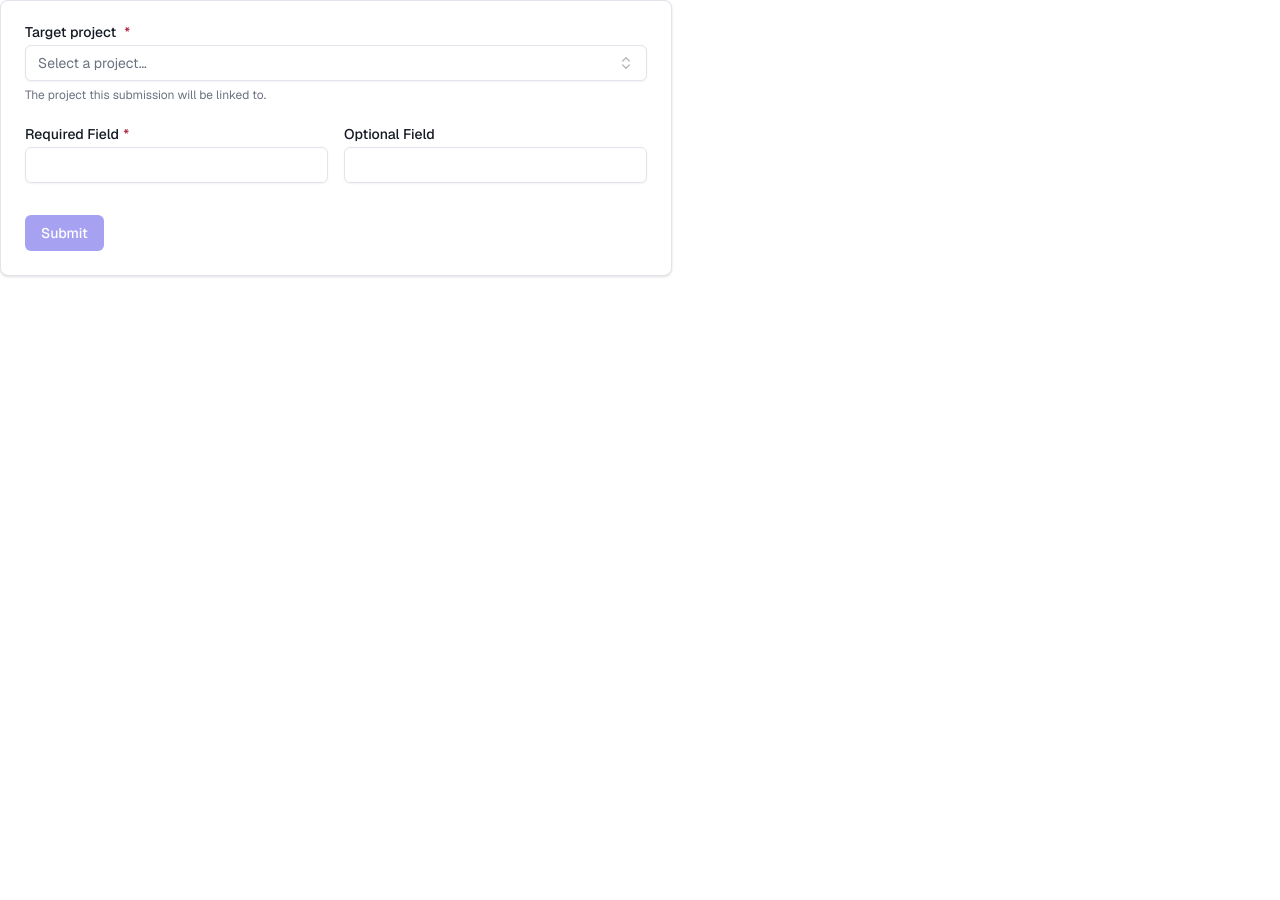
Test: FillForm — COR target project guard › Submit stays disabled for a COR form until a target project is chosen
Type "hello" into the field labelled "Required Field *". click: coordinates (176, 165)
box: top-left (25, 147), bottom-right (328, 183)
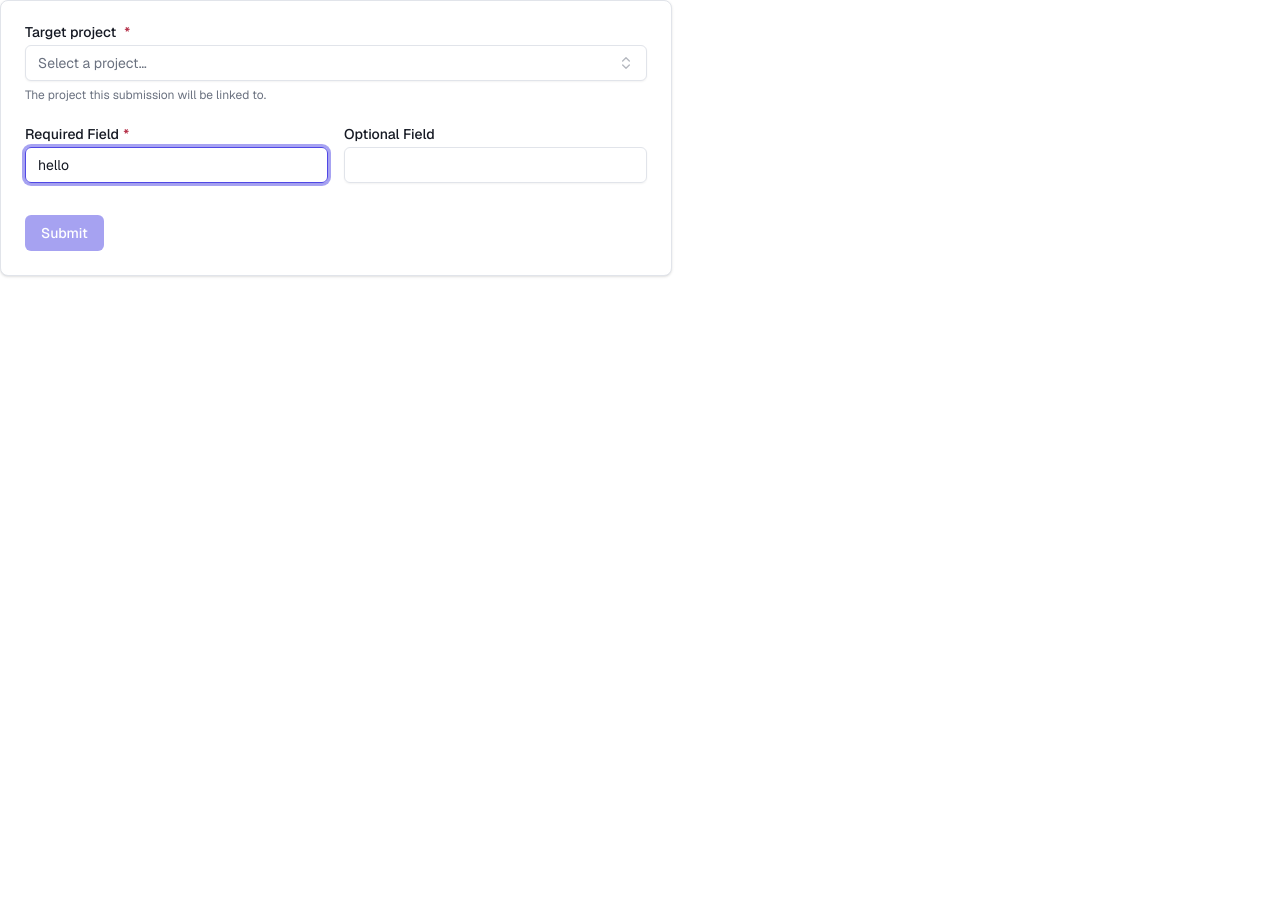
Expected: the button "Submit" is disabled, top-left (25, 215), bottom-right (104, 251)
Open the project combobox and pick a project
Click the dropdown with test id "target-project-trigger". click: coordinates (92, 63)
box: top-left (25, 45), bottom-right (647, 81)
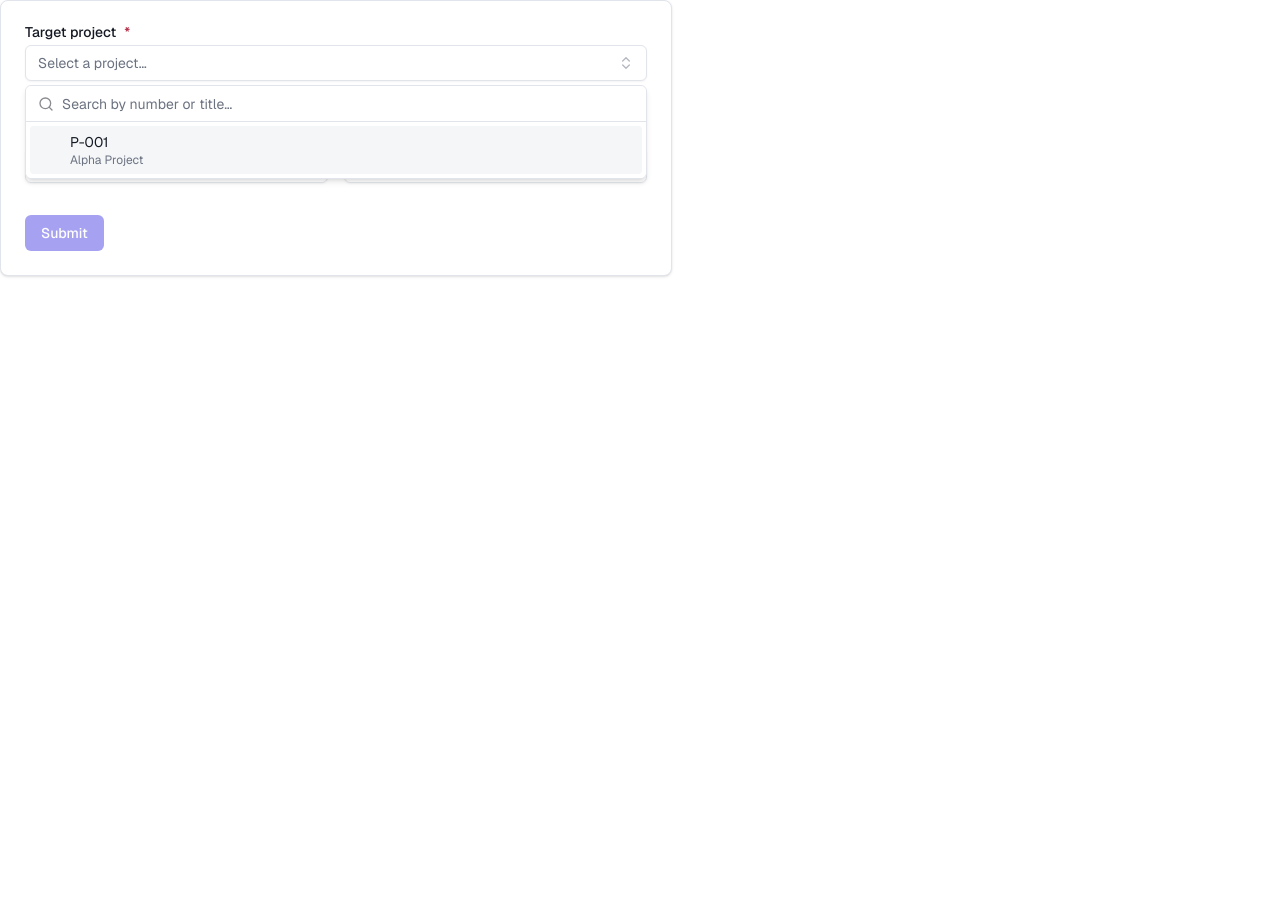
Expected: the text "Alpha Project" is shown
Click the project item
Click the text "Alpha Project". click: coordinates (107, 160)
box: top-left (70, 152), bottom-right (143, 168)
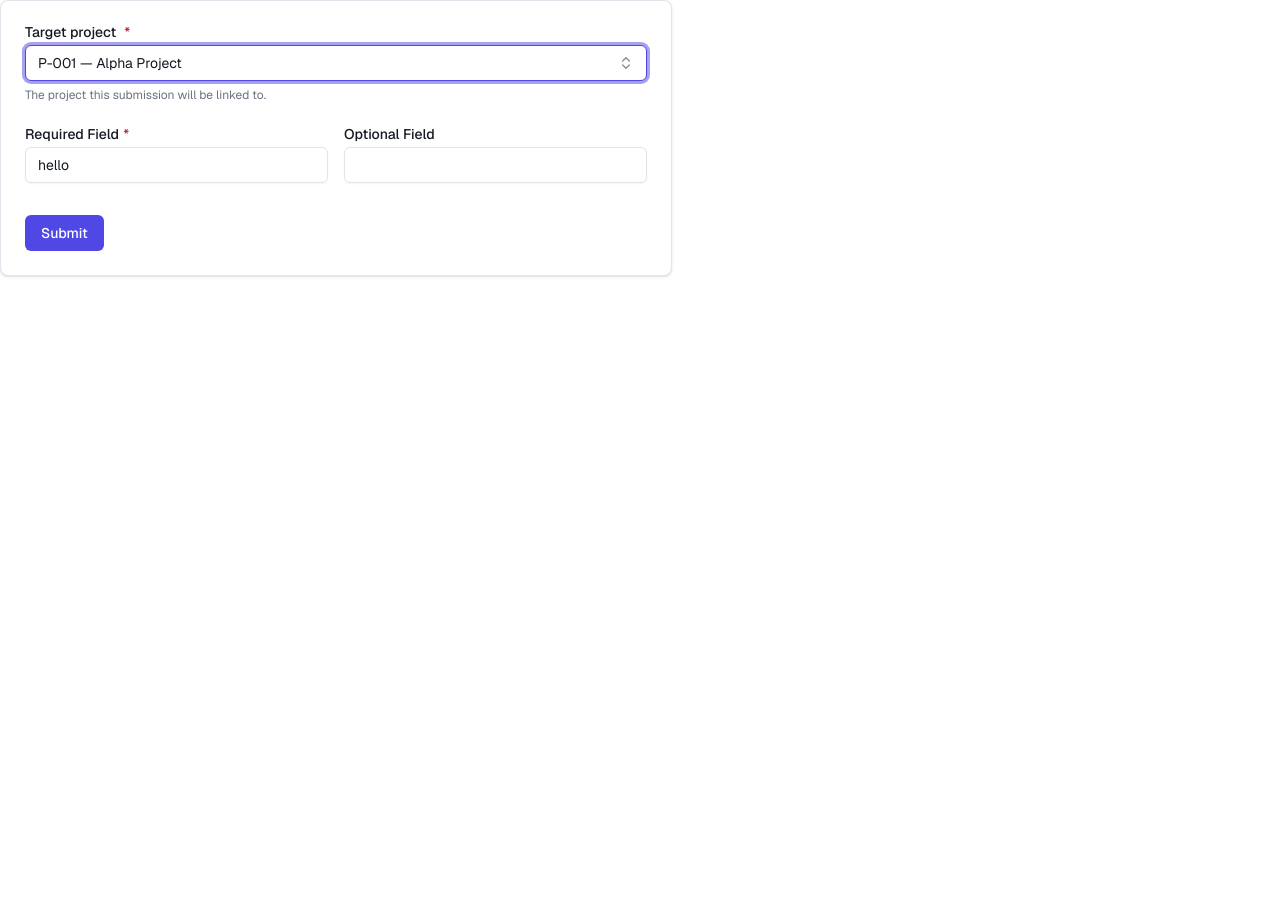
Expected: the button "Submit" is enabled, top-left (25, 215), bottom-right (104, 251)
Click the dropdown with test id "target-project-trigger". click: coordinates (110, 63)
box: top-left (25, 45), bottom-right (647, 81)
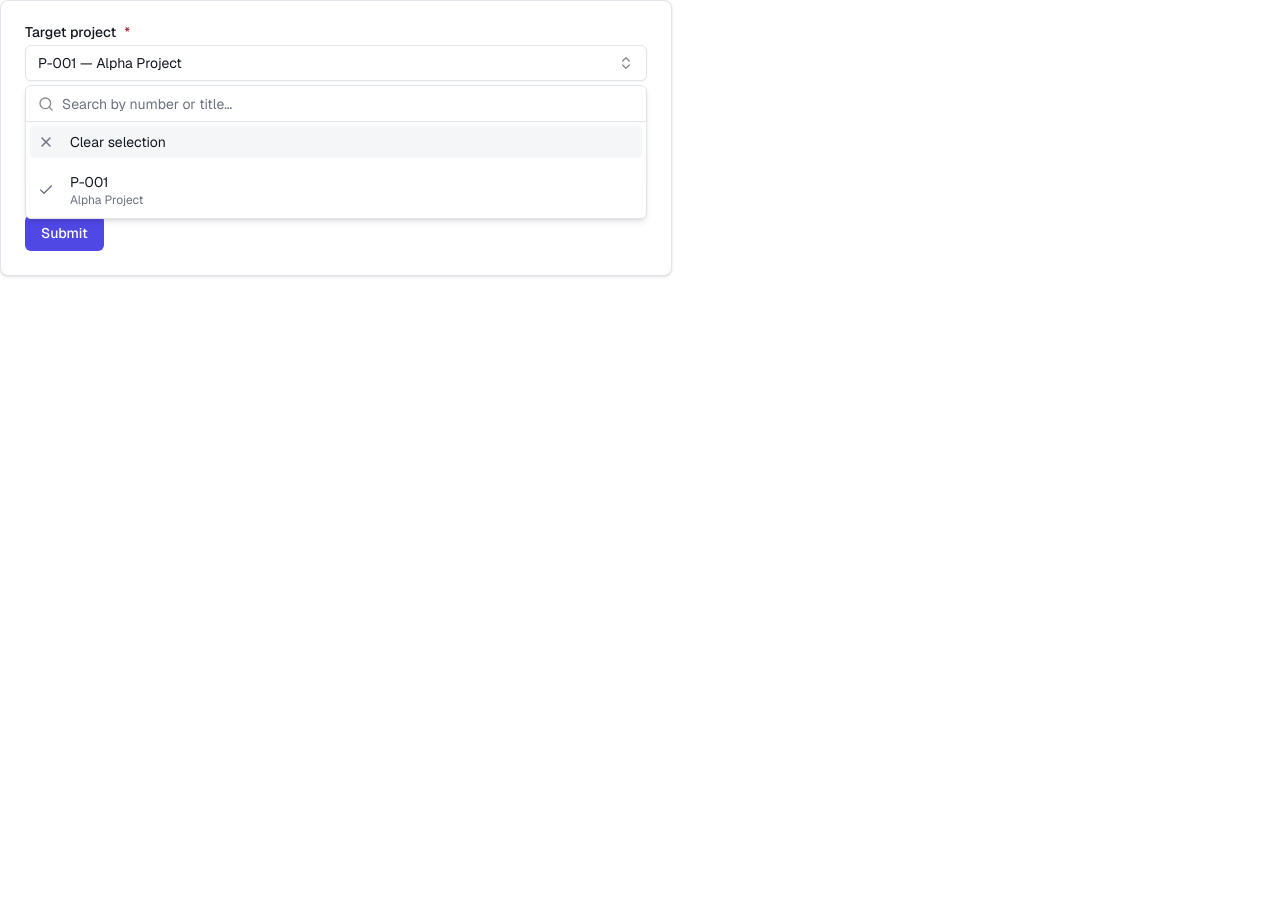
Click the option "Clear selection". click: coordinates (118, 142)
box: top-left (30, 126), bottom-right (642, 158)
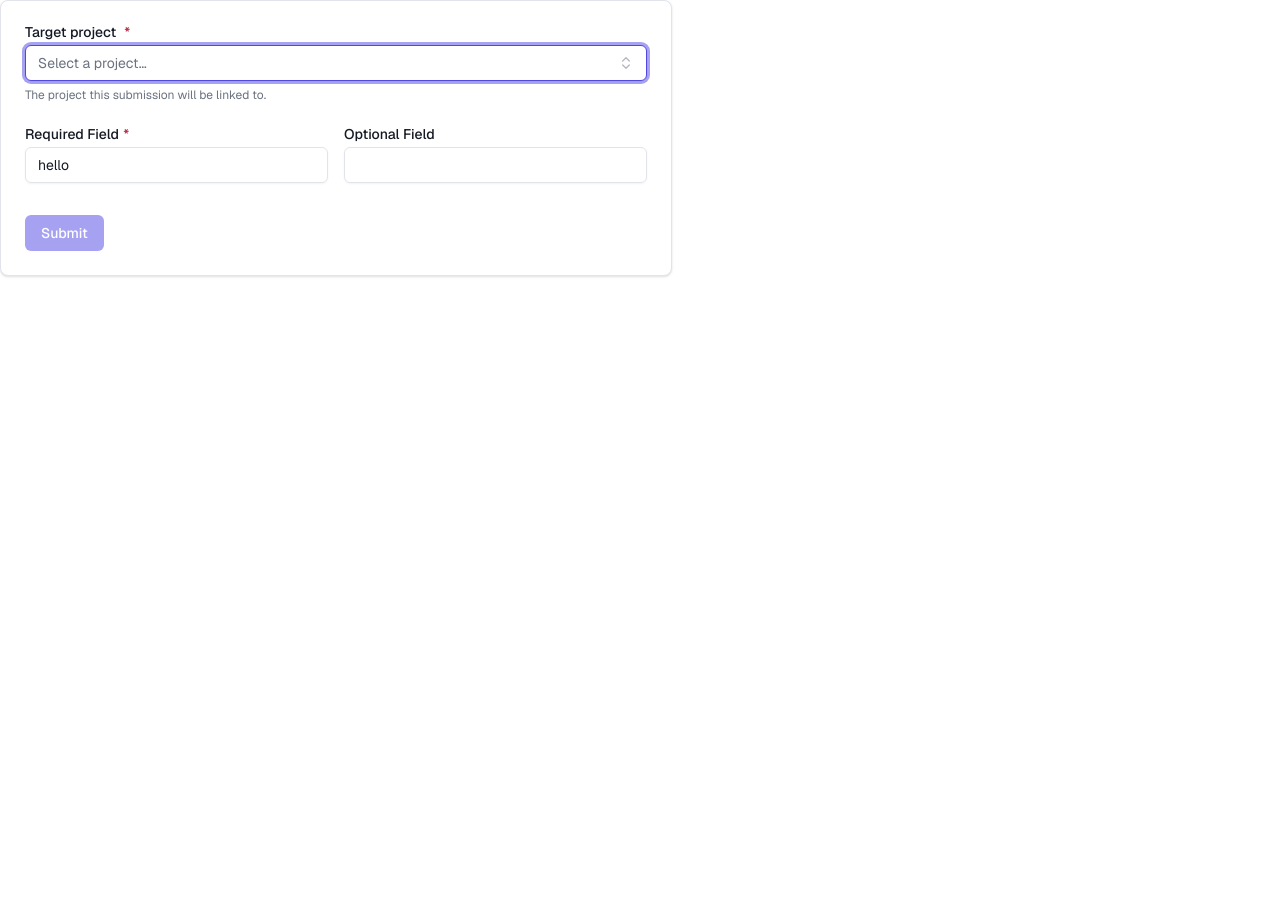
Expected: the button "Submit" is disabled, top-left (25, 215), bottom-right (104, 251)
